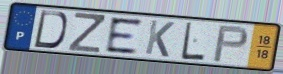D: (32, 9, 69, 50)
E: (104, 16, 144, 55)
K: (143, 18, 177, 59)
L: (180, 21, 206, 62)
P: (211, 25, 250, 64)
Z: (66, 11, 107, 55)
